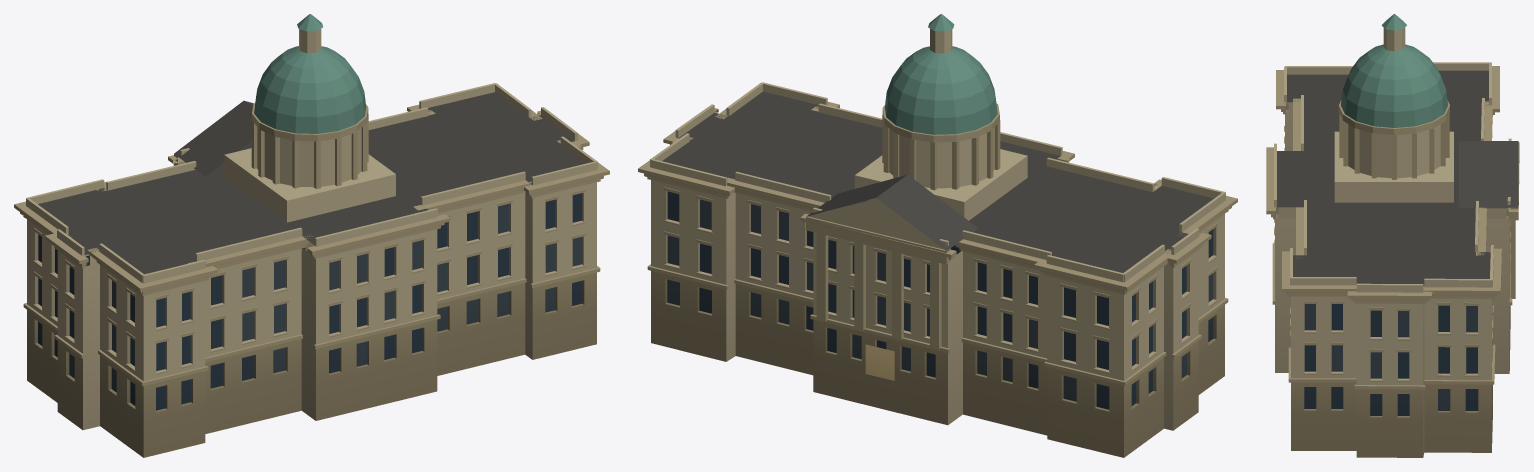
The model's file is oldmain.glb.
The picture shows the model from 3 angles, left to right: view 1: azimuth 30°, elevation 25°; view 2: azimuth 150°, elevation 25°; view 3: azimuth 270°, elevation 25°; orthographic projection. The views are drawn at different scales.
Parts seen in each view (by area): view 1: oldmain_lod0; view 2: oldmain_lod0; view 3: oldmain_lod0.
Boxes of the visible parts, bbox=[...] form: oldmain_lod0: bbox=[14, 14, 609, 457]; oldmain_lod0: bbox=[638, 14, 1237, 457]; oldmain_lod0: bbox=[1266, 14, 1519, 457].
Size of what is drawn, in the model's own units: 55.71 by 36.5 by 25.51.
